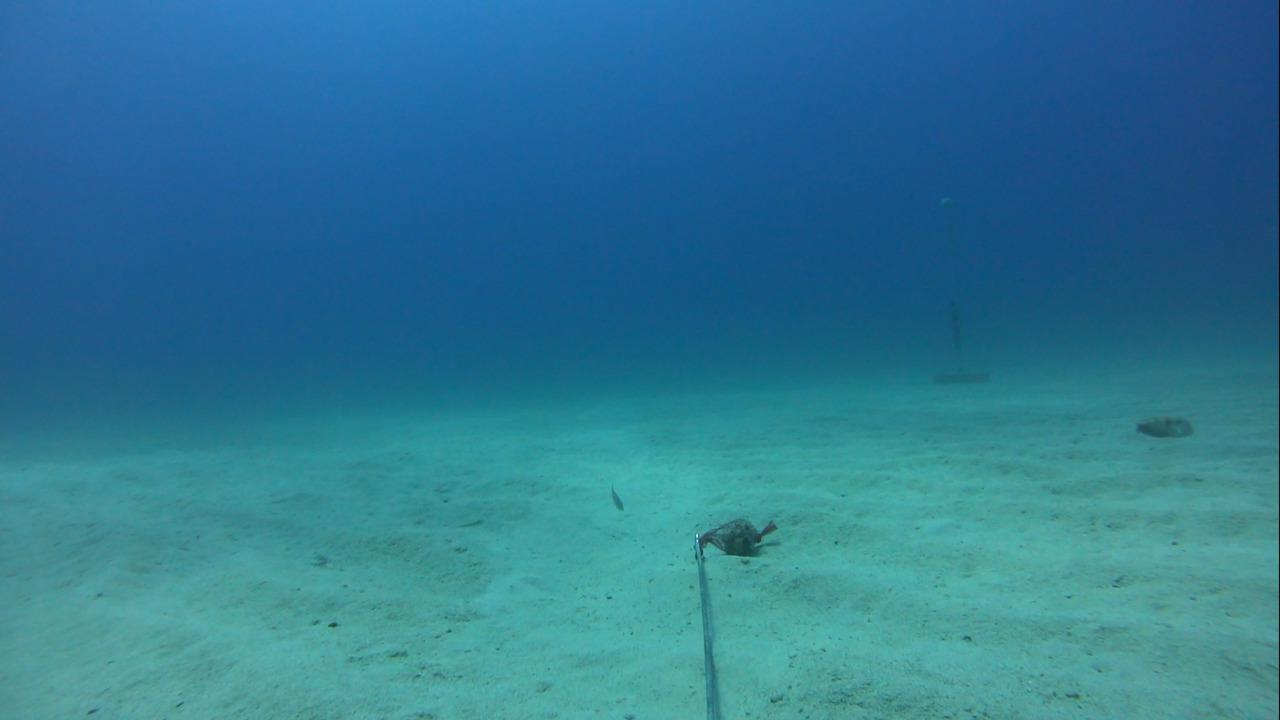raor: (1116, 405, 1200, 445)
